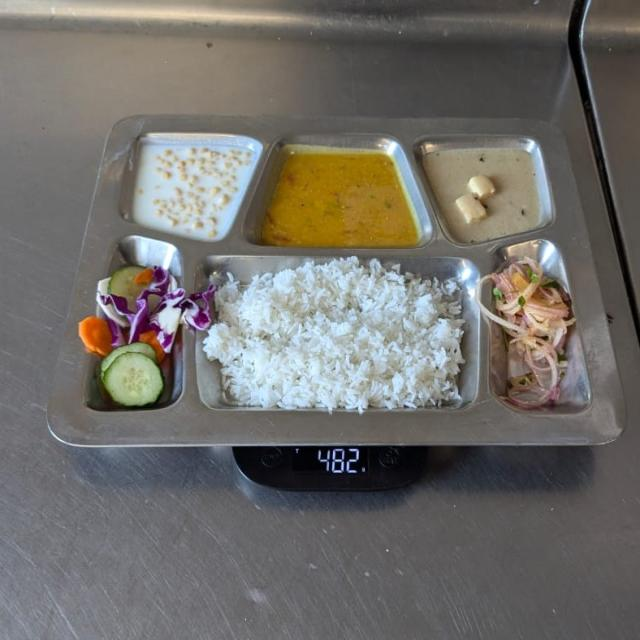Dal: (261, 150, 420, 248)
Paneer Curry: (425, 146, 548, 241)
Raita: (133, 137, 258, 241)
Salad: (77, 263, 209, 412), (477, 257, 577, 411)
White Rice: (210, 266, 469, 412)
